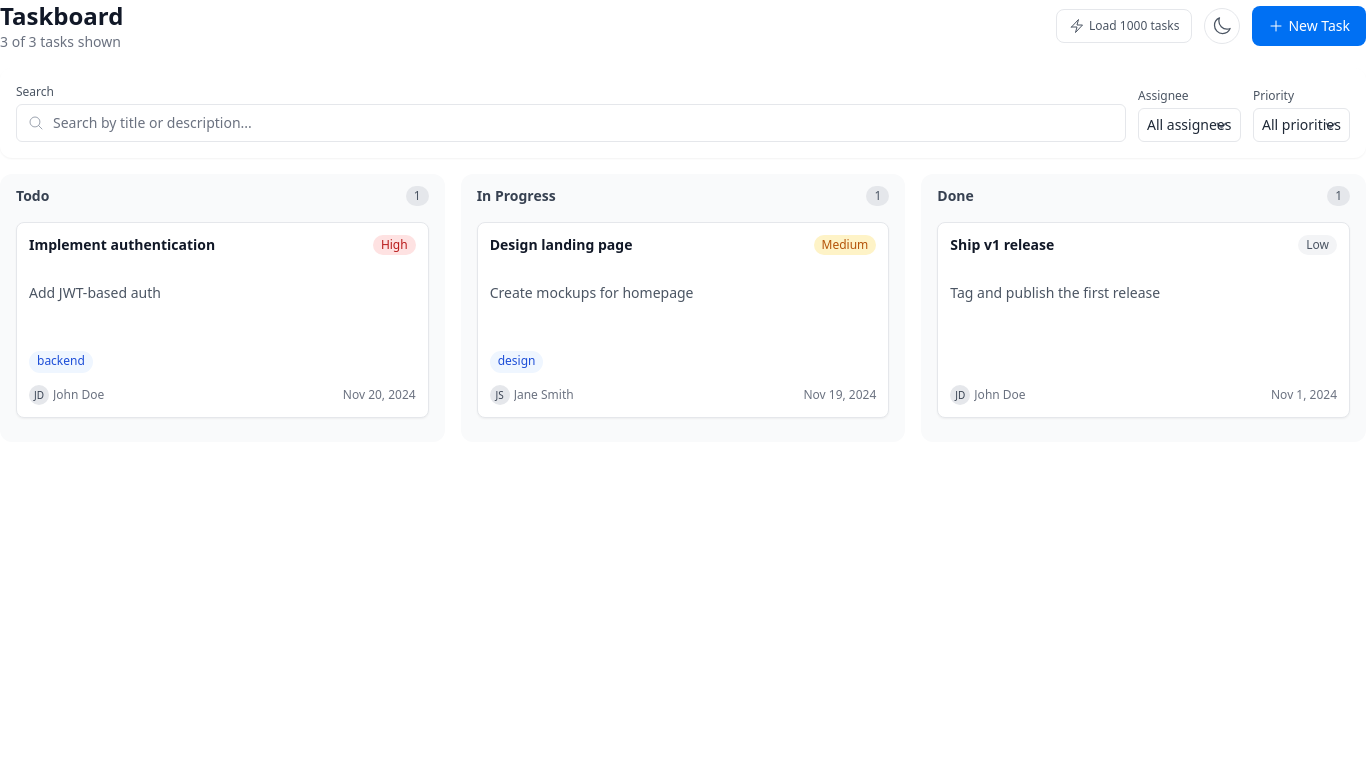
Scenario: TaskBoard › editing and deleting tasks › opens a prefilled edit modal when a task card is clicked
The width and height of the screenshot is (1366, 768).
What coordinates should you click on to do the following:
click the list item with test id "task-card-1"
I would click on:
 (222, 320)
Its box is [16,222,429,418].
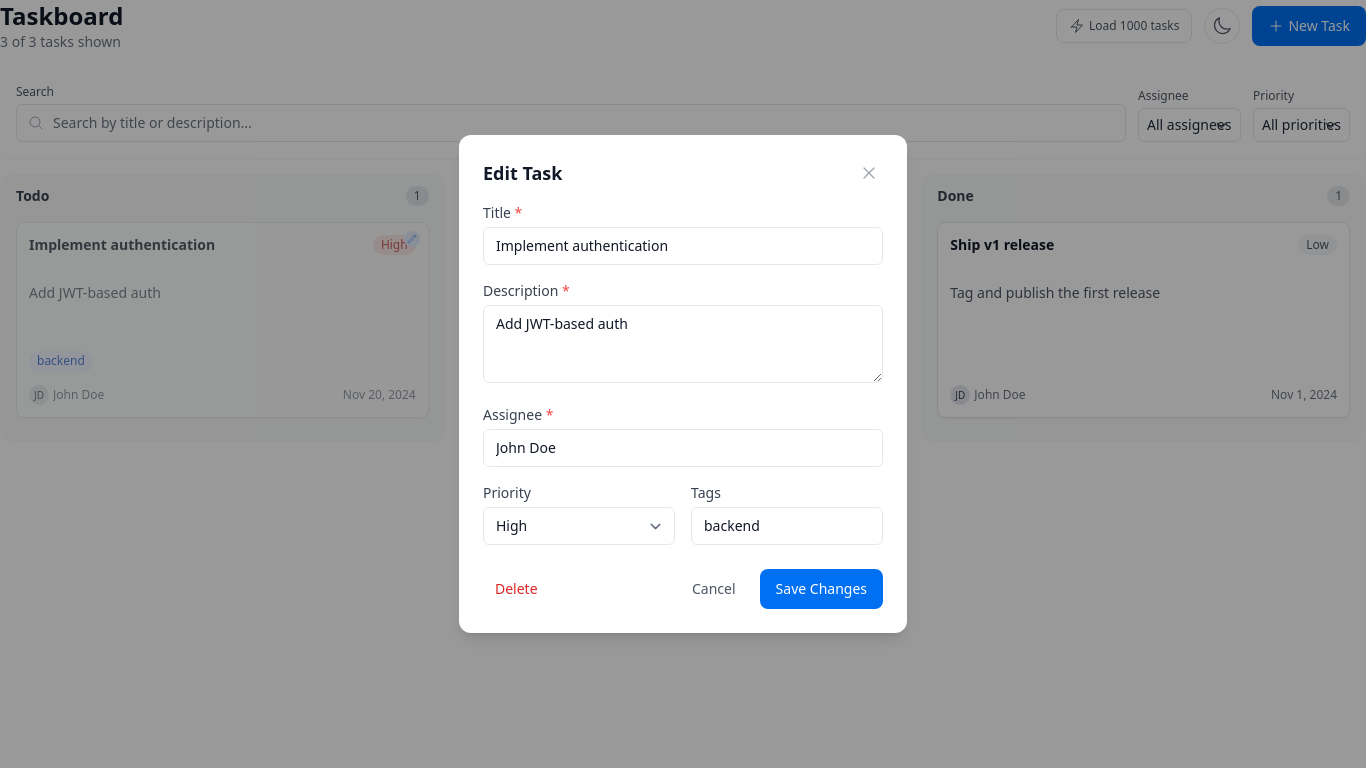
Check: the heading "Edit Task" is shown, box [483,159,562,187]
Check: the field labelled "Title *" holds "Implement authentication", box [483,227,883,265]
Check: the field labelled "Assignee *" holds "John Doe", box [483,429,883,467]
